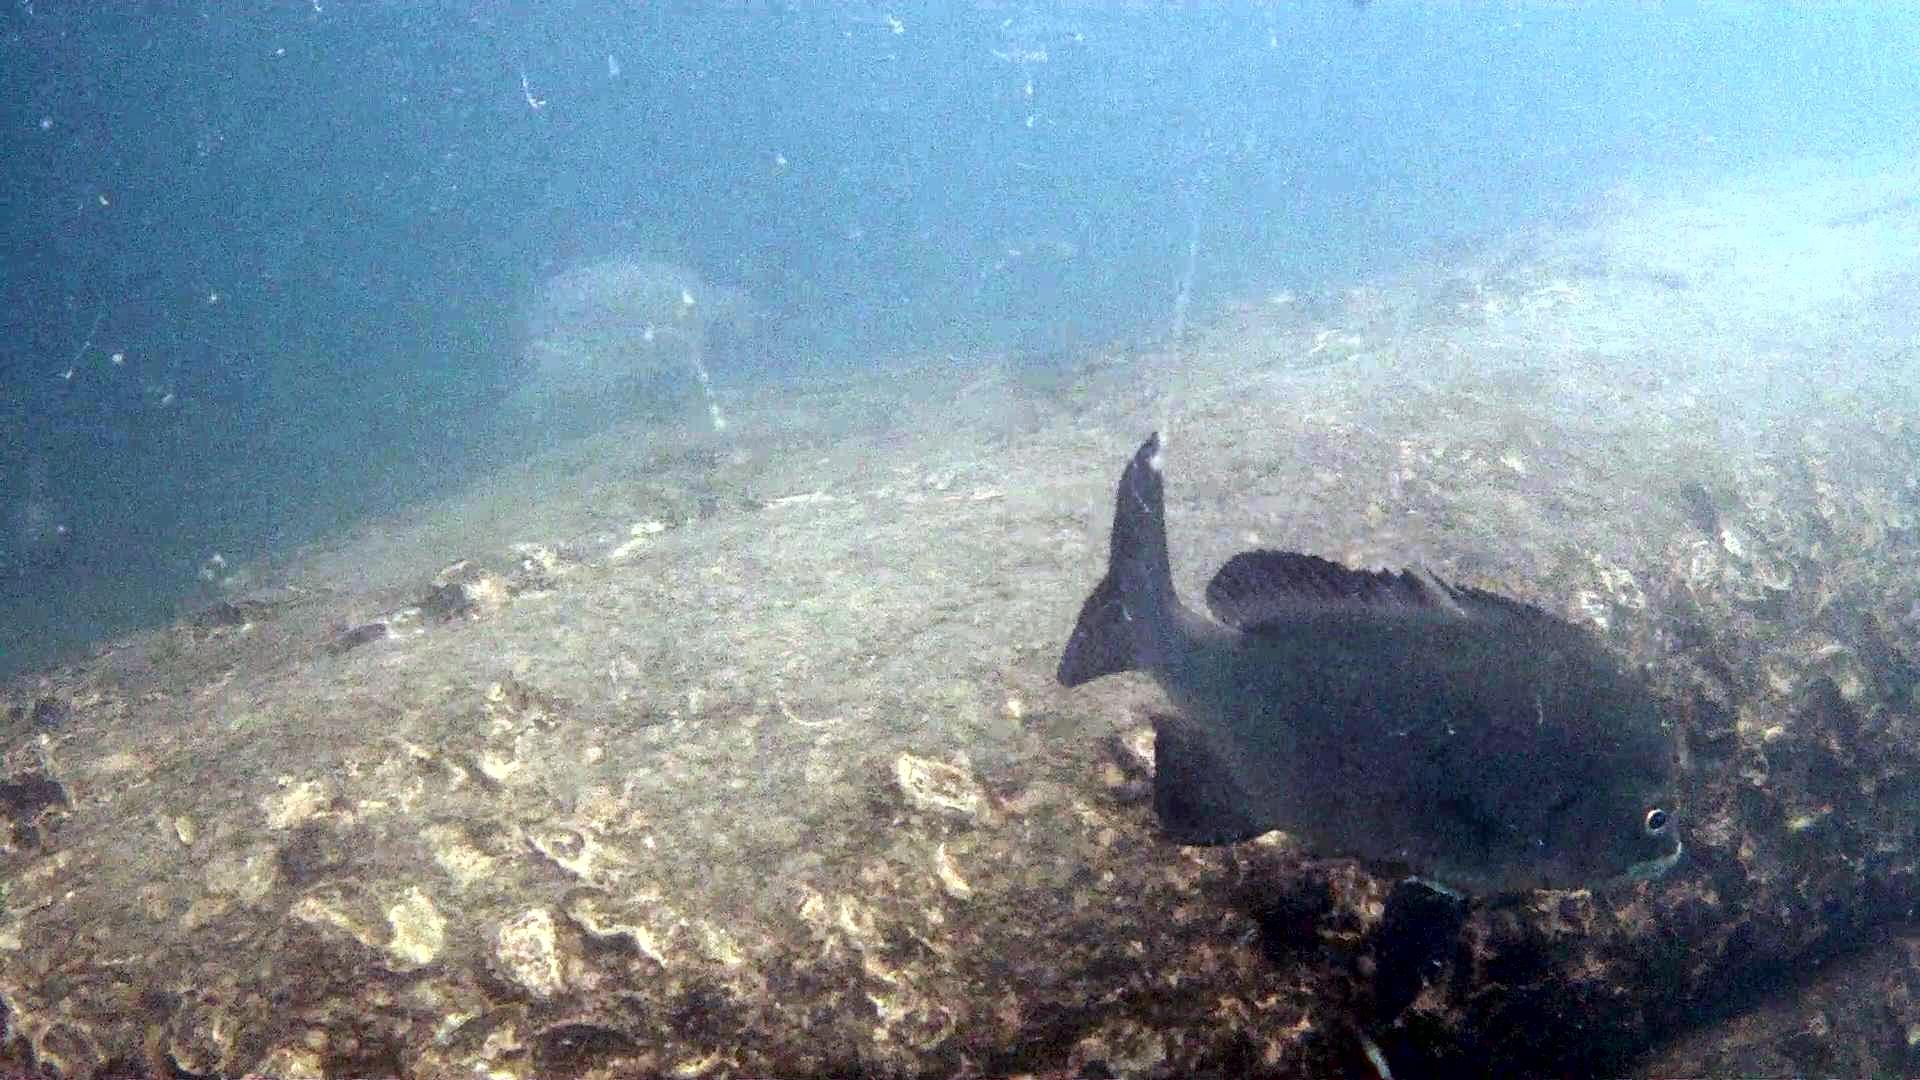acanthopagrus palmaris: (1035, 415, 1710, 1037)
